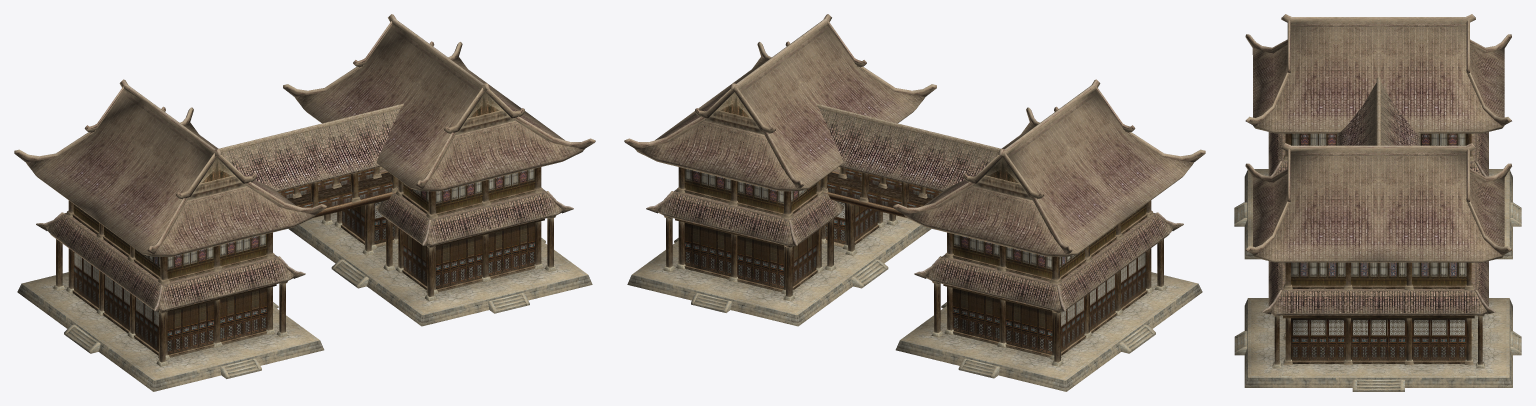
File: desert-009-hotel.fbx
3 views of the same model, side by side, from view 1: azimuth 30°, elevation 25°; view 2: azimuth 150°, elevation 25°; view 3: azimuth 270°, elevation 25° (orthographic).
Visible parts, largest first — view 1: desert-009-hotel01, desert-009-hotel02, desert-009-hotel03; view 2: desert-009-hotel01, desert-009-hotel02, desert-009-hotel03; view 3: desert-009-hotel01, desert-009-hotel02, desert-009-hotel03.
Boxes of the visible parts, x1=… form: desert-009-hotel01: x1=14, y1=14, x2=595, y2=256; desert-009-hotel02: x1=36, y1=103, x2=573, y2=354; desert-009-hotel03: x1=17, y1=167, x2=592, y2=391; desert-009-hotel01: x1=624, y1=14, x2=1205, y2=256; desert-009-hotel02: x1=646, y1=103, x2=1183, y2=354; desert-009-hotel03: x1=627, y1=167, x2=1202, y2=391; desert-009-hotel01: x1=1245, y1=14, x2=1511, y2=262; desert-009-hotel02: x1=1261, y1=77, x2=1495, y2=360; desert-009-hotel03: x1=1234, y1=133, x2=1521, y2=391.
Size of the model in its own units: 35.89 by 15.6 by 19.9.
